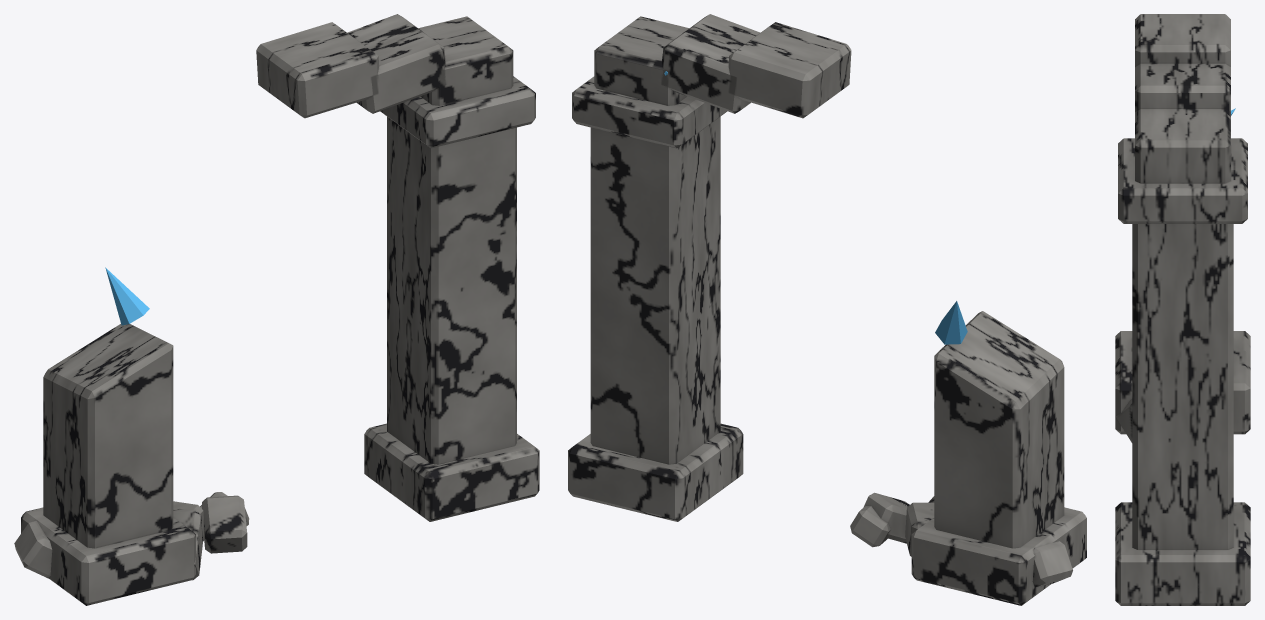
Rendered from BG_Arch.obj.
3 renders of one model, left to right at view 1: azimuth 30°, elevation 25°; view 2: azimuth 150°, elevation 25°; view 3: azimuth 270°, elevation 25°, orthographic. The views are drawn at different scales.
Visible parts, largest first — view 1: BG_Arch; view 2: BG_Arch; view 3: BG_Arch.
Boxes of the visible parts, x1,y1,x2,y2 form: BG_Arch: (14,14,539,605); BG_Arch: (568,14,1086,605); BG_Arch: (1115,14,1250,605).
Size of the model in its own units: 1 by 0.9569 by 0.2384.
1 material, 1 textured.
